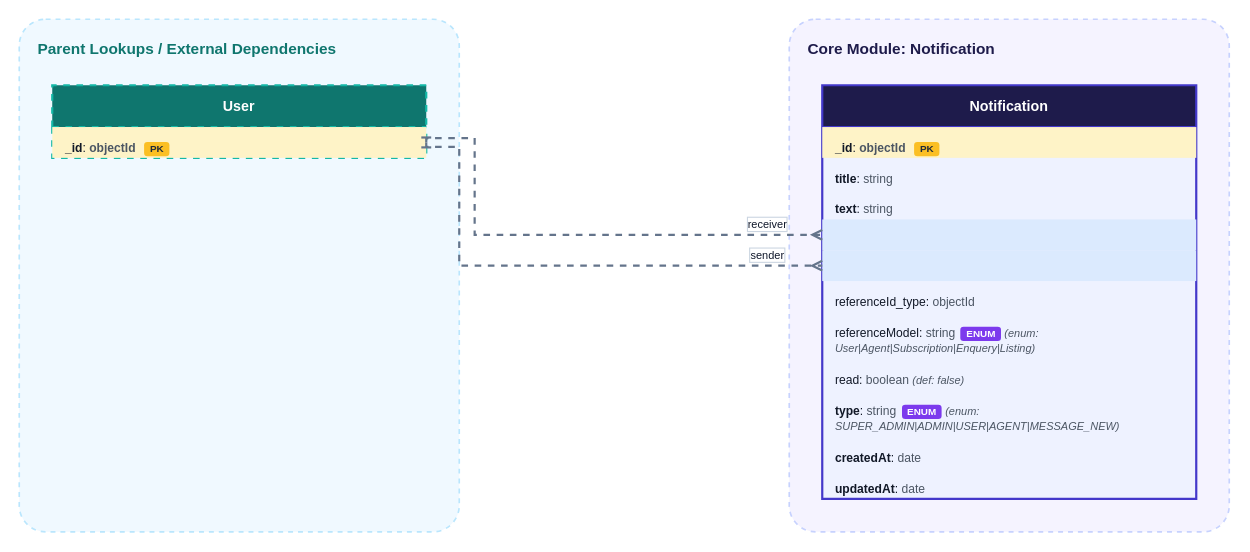
The diagram is 1250 pixels wide and 552 high, and some of its shapes have lost their labels. Here are the shapes that lost their labels. From the top down, the centre of each, then its label:
At (1009,234): "receiver : objectId FK".
At (1009,265): "sender: objectId FK".
